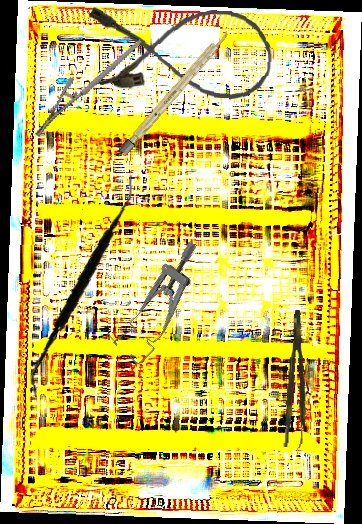Cannula: (84, 1, 276, 102)
Needle Holder: (16, 38, 161, 140)
Scalpel Handle: (118, 28, 232, 156)
Spatula Surgical: (12, 174, 155, 397)
Speculum: (97, 239, 229, 368)
Tissue Forceps: (283, 309, 313, 449)
